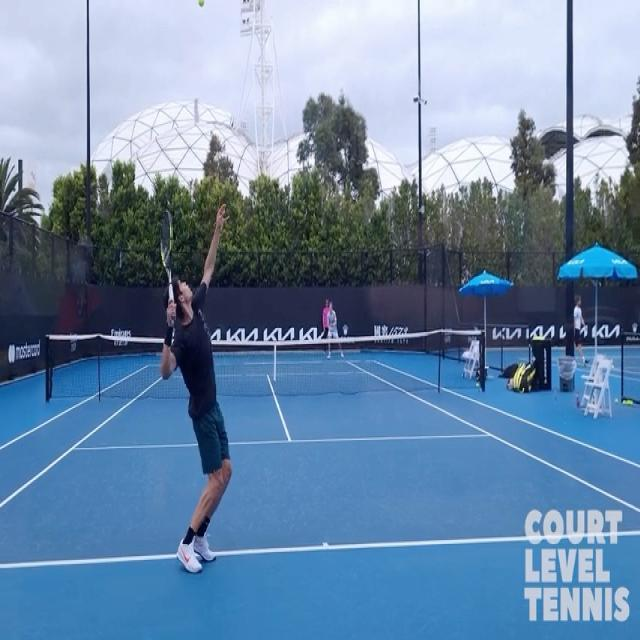serve_toss: (146, 194, 235, 571)
